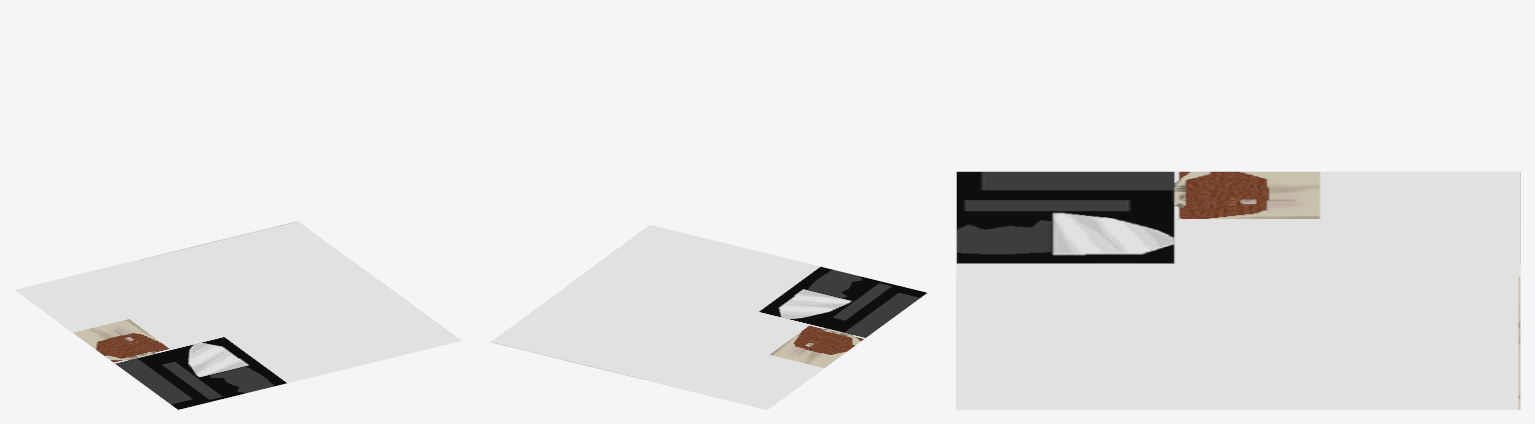
The model's file is WorldItem-FreddyClaw.fbx.
3 views of the same model, side by side, from view 1: azimuth 30°, elevation 25°; view 2: azimuth 150°, elevation 25°; view 3: azimuth 270°, elevation 25° (orthographic). The views are drawn at different scales.
Visible parts, largest first — view 1: Body.001; view 2: Body.001; view 3: Body.001.
Part boxes in pixels (x1,y1,x2,y2): Body.001: (15,221,460,409); Body.001: (490,225,927,409); Body.001: (956,171,1520,409).
Size of the model in its own units: 240 by 174 by 200.
